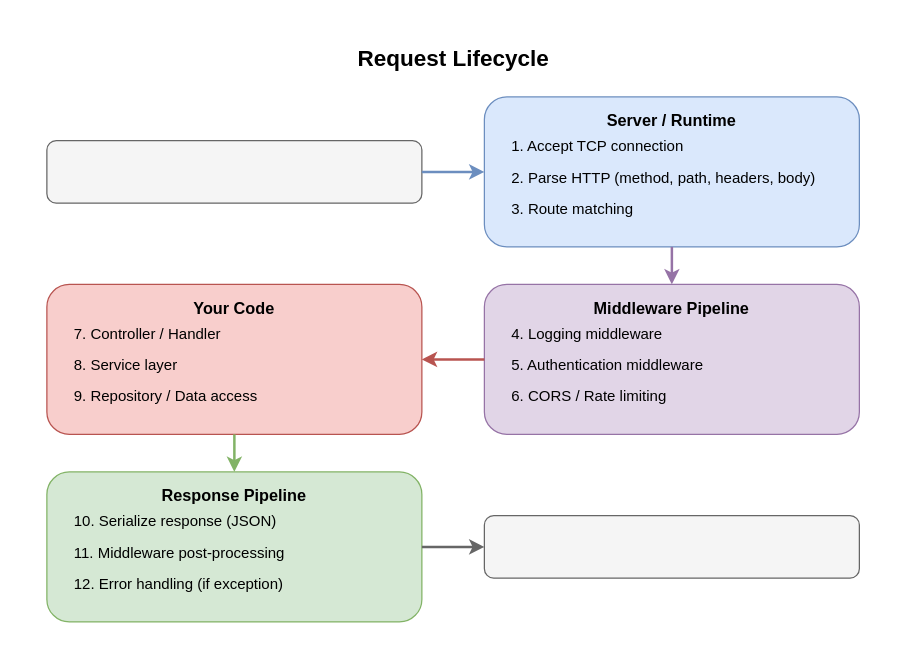
Some shapes in this 905 by 668 pixel diagram are drawn without their labels. The shapes that lost their labels are listed below. From the top down, each one's centre as x and y in pixels, then its label:
At point 234,171: "Client sends HTTP request".
At point 671,546: "HTTP Response sent to client".
